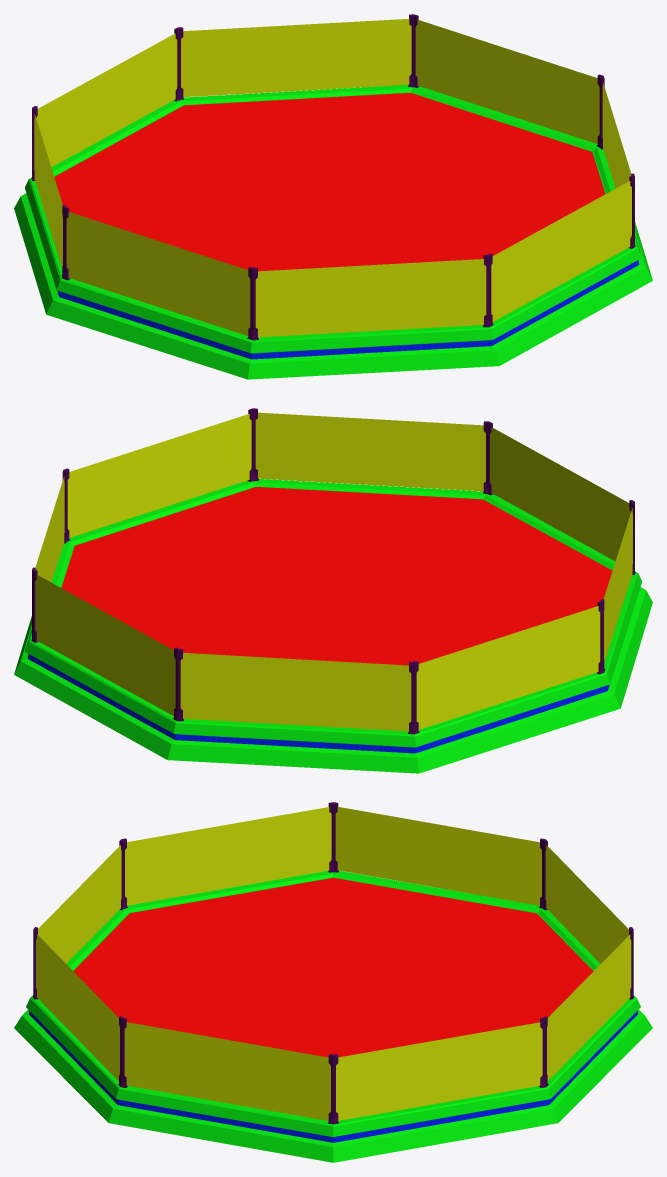
Rendered from octagon.FBX.
The picture shows the model from 3 angles, top to bottom: view 1: azimuth 30°, elevation 25°; view 2: azimuth 150°, elevation 25°; view 3: azimuth 270°, elevation 25°; orthographic projection. The views are drawn at different scales.
Parts seen in each view (by area): view 1: octagon, fence005, fence001, fence, fence004, fence006, fence002, fence003, fence007, corner005; view 2: octagon, fence002, fence006, fence003, fence007, fence001, fence005, fence004, fence, corner003; view 3: octagon, fence004, fence, fence003, fence007, fence001, fence006, fence002, fence005.
Part boxes in pixels (bbox=[...]): octagon: bbox=[14, 85, 652, 379]; fence005: bbox=[255, 259, 486, 337]; fence001: bbox=[181, 19, 411, 97]; fence: bbox=[415, 20, 599, 143]; fence004: bbox=[66, 212, 250, 335]; fence006: bbox=[491, 181, 631, 321]; fence002: bbox=[36, 33, 177, 166]; fence003: bbox=[34, 114, 62, 268]; fence007: bbox=[602, 82, 631, 188]; corner005: bbox=[247, 266, 258, 340]; octagon: bbox=[14, 479, 652, 773]; fence002: bbox=[180, 652, 411, 731]; fence006: bbox=[255, 412, 485, 491]; fence003: bbox=[416, 606, 600, 729]; fence007: bbox=[67, 414, 251, 537]; fence001: bbox=[35, 575, 175, 715]; fence005: bbox=[490, 427, 630, 561]; fence004: bbox=[604, 508, 632, 662]; fence: bbox=[35, 476, 64, 582]; corner003: bbox=[408, 661, 419, 734]; octagon: bbox=[14, 871, 652, 1162]; fence004: bbox=[125, 807, 331, 905]; fence: bbox=[336, 1022, 542, 1120]; fence003: bbox=[335, 807, 541, 905]; fence007: bbox=[124, 1022, 330, 1120]; fence001: bbox=[547, 934, 631, 1080]; fence006: bbox=[36, 934, 119, 1080]; fence002: bbox=[545, 845, 628, 963]; fence005: bbox=[38, 845, 121, 963].
Bounding box in the file's own units: 1278 × 1279 × 219.
